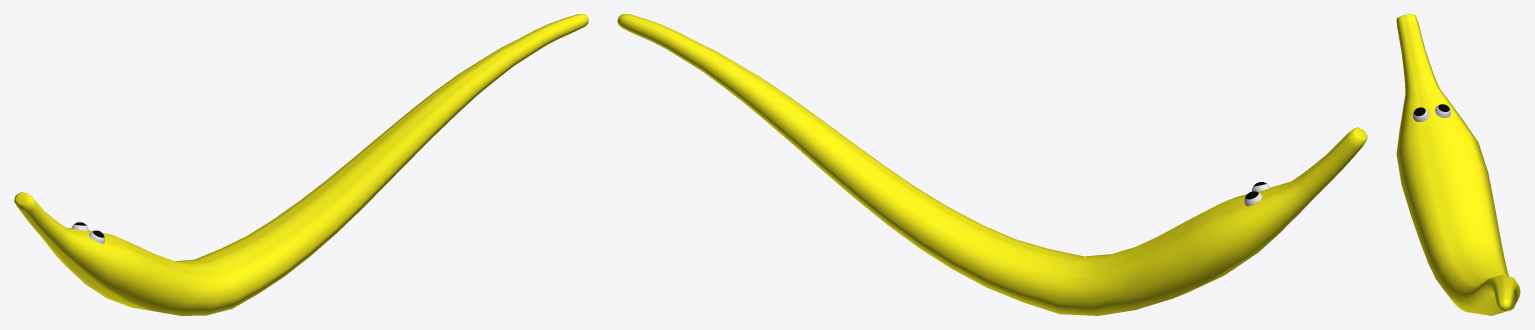
Rendered from worm.glb.
The picture shows the model from 3 angles, left to right: view 1: azimuth 30°, elevation 25°; view 2: azimuth 150°, elevation 25°; view 3: azimuth 270°, elevation 25°; orthographic projection. The views are drawn at different scales.
Parts seen in each view (by area): view 1: worm; view 2: worm; view 3: worm, Eye_left, Eye_right.
Part boxes in pixels (left/top/right/bottom): worm: left=14, top=14, right=588, bottom=315; worm: left=617, top=14, right=1367, bottom=315; worm: left=1396, top=14, right=1520, bottom=315; Eye_left: left=1412, top=107, right=1428, bottom=121; Eye_right: left=1435, top=104, right=1450, bottom=118.
Size of the model in its own units: 11.48 by 3.37 by 2.11.
